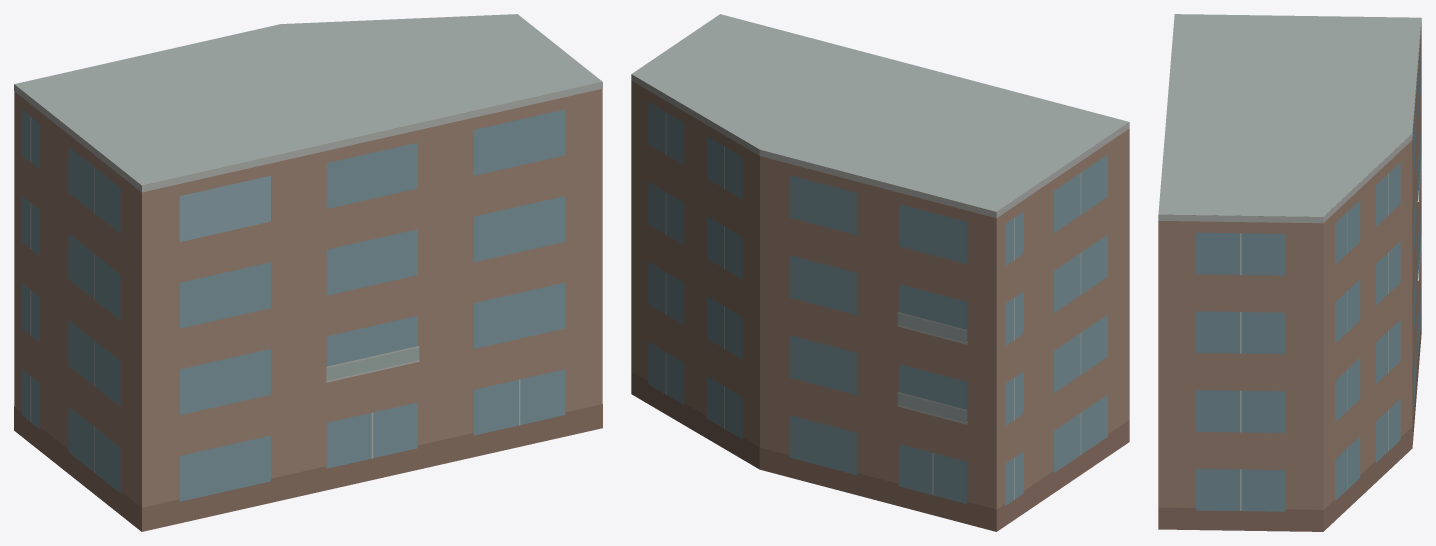
Rendered from residential-4f5bd8e6-c3db-413a-97a7-fbcf73276a59.glb.
3 views of the same model, side by side, from view 1: azimuth 30°, elevation 25°; view 2: azimuth 150°, elevation 25°; view 3: azimuth 270°, elevation 25° (orthographic). The views are drawn at different scales.
Parts seen in each view (by area): view 1: residential-4f5bd8e6-c3db-413a-97a7-fbcf73276a59.tmp; view 2: residential-4f5bd8e6-c3db-413a-97a7-fbcf73276a59.tmp; view 3: residential-4f5bd8e6-c3db-413a-97a7-fbcf73276a59.tmp.
Boxes of the visible parts, left/top/right/bottom form: residential-4f5bd8e6-c3db-413a-97a7-fbcf73276a59.tmp: left=14, top=14, right=602, bottom=531; residential-4f5bd8e6-c3db-413a-97a7-fbcf73276a59.tmp: left=631, top=14, right=1129, bottom=531; residential-4f5bd8e6-c3db-413a-97a7-fbcf73276a59.tmp: left=1158, top=14, right=1421, bottom=531.
Size of the model in its own units: 16.88 by 12.2 by 9.25.
